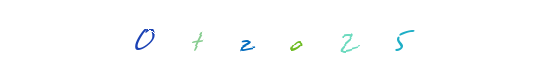0: (136, 0, 216, 80)
2: (256, 0, 336, 80)
5: (268, 0, 348, 80)
O: (251, 0, 331, 80)
T: (235, 0, 315, 80)
Z: (235, 0, 315, 80)
